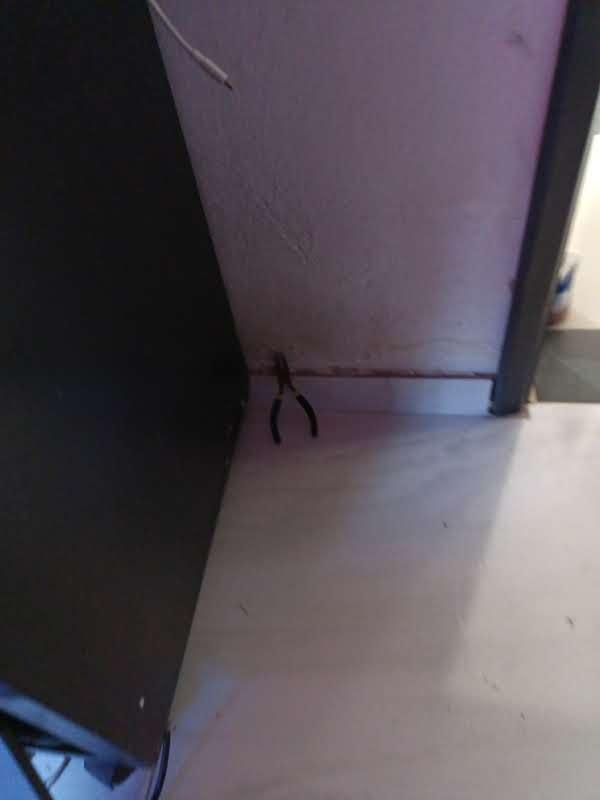Pinzas: (269, 353, 319, 444)
